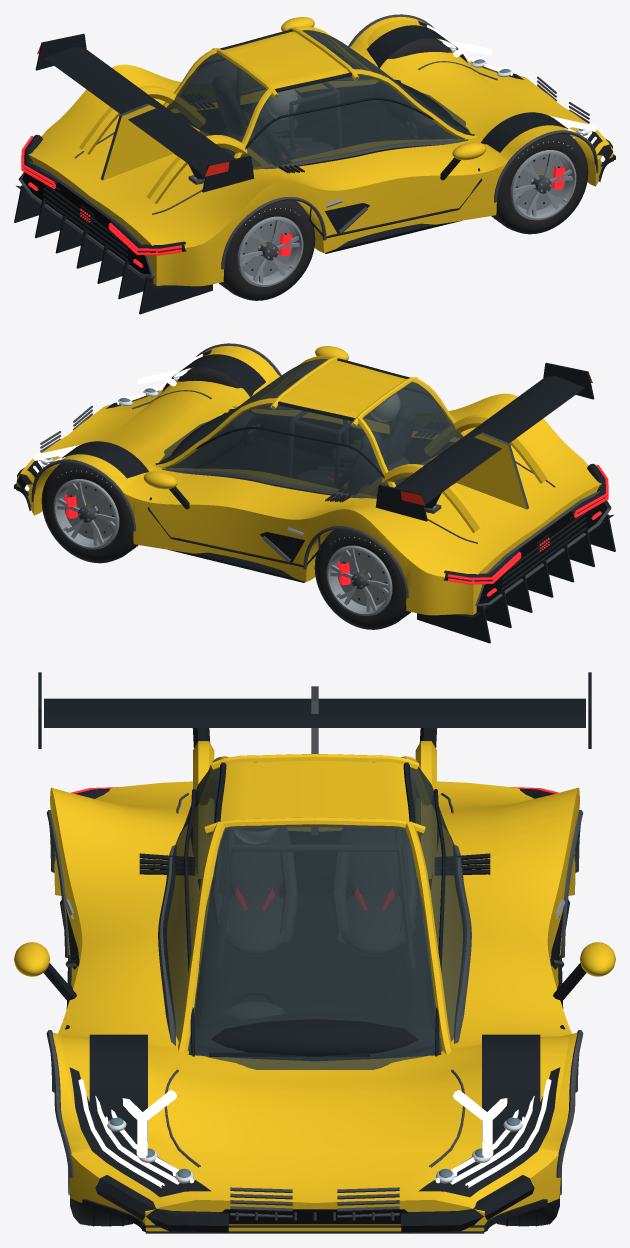
Rendered from fleet-8.glb.
The picture shows the model from 3 angles, top to bottom: view 1: azimuth 30°, elevation 25°; view 2: azimuth 150°, elevation 25°; view 3: azimuth 270°, elevation 25°; orthographic projection. The views are drawn at different scales.
Visible parts, largest first — view 1: GT_body, GT_glazing, GT_tyre, GT_rear_wing, GT_diffuser_fin, GT_roof, GT_dorsal_fairing, GT_wheelwell_liner, GT_cockpit_floor, GT_cockpit_tub, GT_alloy_disc, GT_engine_spine (+29 smaller); view 2: GT_body, GT_glazing, GT_tyre, GT_rear_wing, GT_diffuser_fin, GT_roof, GT_dorsal_fairing, GT_cockpit_floor, GT_wheelwell_liner, GT_cockpit_tub, GT_alloy_disc, GT_engine_spine (+29 smaller); view 3: GT_body, GT_glazing, GT_cockpit_floor, GT_rear_wing, GT_roof, GT_wheelwell_liner, GT_dashboard, GT_bucket_base, GT_headlight_surround, GT_roof_pillar.001, GT_headlight, GT_bucket_back (+20 smaller).
Part boxes in pixels (box(x1,y1,x2,y2)): GT_body: box(24, 16, 613, 286); GT_glazing: box(166, 30, 470, 169); GT_tyre: box(219, 38, 588, 300); GT_rear_wing: box(45, 47, 235, 175); GT_diffuser_fin: box(14, 185, 212, 314); GT_roof: box(223, 31, 348, 88); GT_dorsal_fairing: box(79, 85, 267, 203); GT_wheelwell_liner: box(366, 25, 567, 152); GT_cockpit_floor: box(222, 106, 429, 167); GT_cockpit_tub: box(175, 80, 474, 135); GT_alloy_disc: box(241, 153, 565, 277); GT_engine_spine: box(103, 105, 209, 180); GT_body: box(16, 345, 605, 615); GT_glazing: box(159, 359, 463, 498); GT_tyre: box(41, 367, 410, 629); GT_rear_wing: box(394, 376, 584, 504); GT_diffuser_fin: box(417, 514, 615, 643); GT_roof: box(281, 360, 406, 417); GT_dorsal_fairing: box(362, 414, 550, 532); GT_cockpit_floor: box(200, 435, 407, 496); GT_wheelwell_liner: box(62, 354, 265, 478); GT_cockpit_tub: box(155, 409, 454, 464); GT_alloy_disc: box(64, 482, 388, 606); GT_engine_spine: box(420, 434, 526, 509); GT_body: box(50, 781, 579, 1231); GT_glazing: box(163, 767, 466, 1069); GT_cockpit_floor: box(195, 894, 434, 1056); GT_rear_wing: box(44, 698, 585, 727); GT_roof: box(220, 760, 409, 821); GT_wheelwell_liner: box(89, 1034, 540, 1141); GT_dashboard: box(190, 1012, 439, 1060); GT_bucket_base: box(225, 895, 404, 955); GT_headlight_surround: box(69, 1067, 560, 1197); GT_roof_pillar.001: box(178, 756, 451, 1054); GT_headlight: box(95, 1175, 534, 1232); GT_bucket_back: box(220, 827, 409, 895).
Size of the model in its own units: 0.3368 by 0.1121 by 0.2163.
